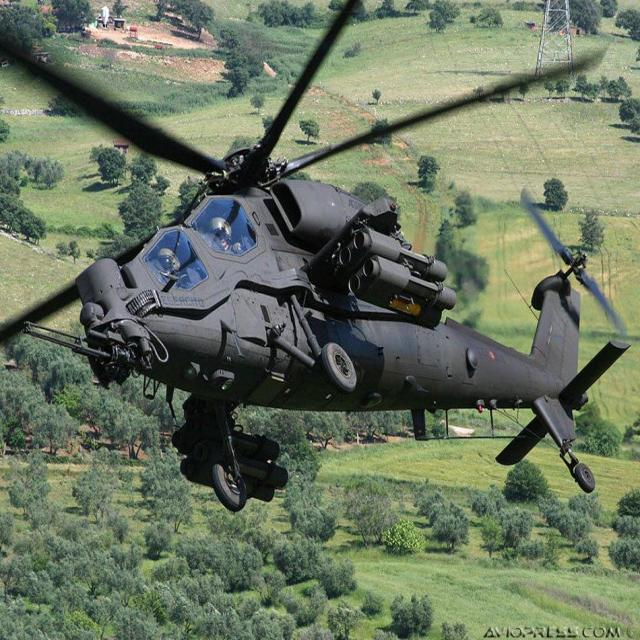MIL_HELO: (0, 0, 640, 509)
